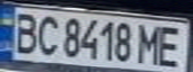1: (97, 18, 118, 61)
4: (78, 16, 100, 60)
8: (112, 19, 136, 63), (60, 15, 84, 58)
B: (9, 9, 42, 55)
C: (33, 12, 60, 56)
E: (154, 22, 190, 68)
M: (133, 21, 163, 65)
